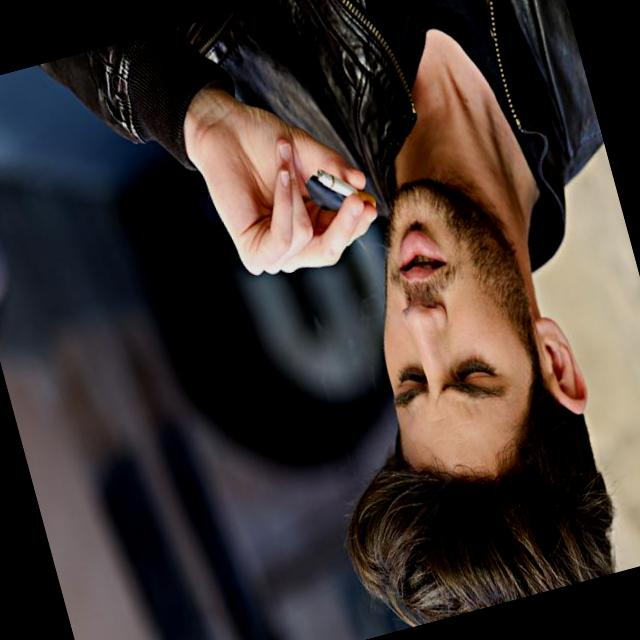cigarette: (312, 158, 383, 225)
